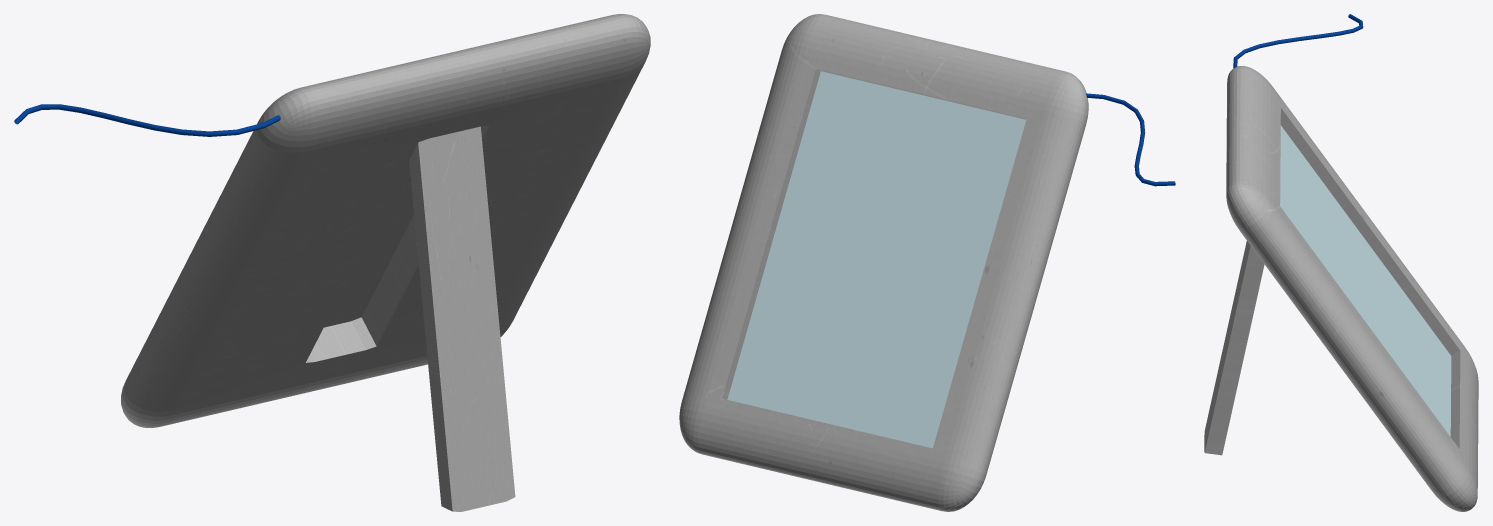
File: thermometer_electric.fbx
The picture shows the model from 3 angles, left to right: view 1: azimuth 30°, elevation 25°; view 2: azimuth 150°, elevation 25°; view 3: azimuth 270°, elevation 25°; orthographic projection. The views are drawn at different scales.
Visible parts, largest first — view 1: ThermometerBody, ThermometerLeg, Tube; view 2: ThermometerBody, Tube; view 3: ThermometerBody, ThermometerLeg, Tube.
Boxes of the visible parts, x1=… form: ThermometerBody: x1=121, y1=14, x2=650, y2=427; ThermometerLeg: x1=409, y1=126, x2=515, y2=511; Tube: x1=14, y1=104, x2=280, y2=136; ThermometerBody: x1=679, y1=14, x2=1088, y2=511; Tube: x1=1086, y1=93, x2=1175, y2=186; ThermometerBody: x1=1226, y1=66, x2=1478, y2=511; ThermometerLeg: x1=1204, y1=241, x2=1264, y2=455; Tube: x1=1233, y1=14, x2=1363, y2=68.
Size of the model in its own units: 352 by 268 by 201.
